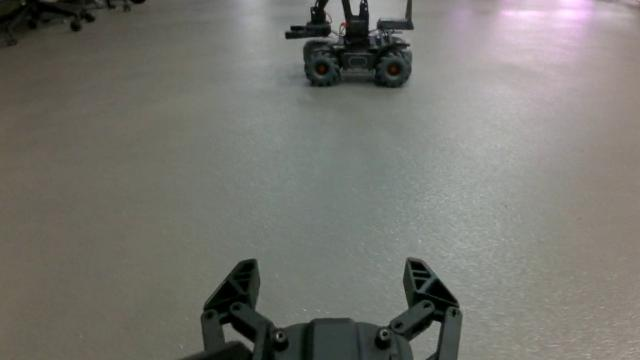robot: (286, 0, 416, 87)
